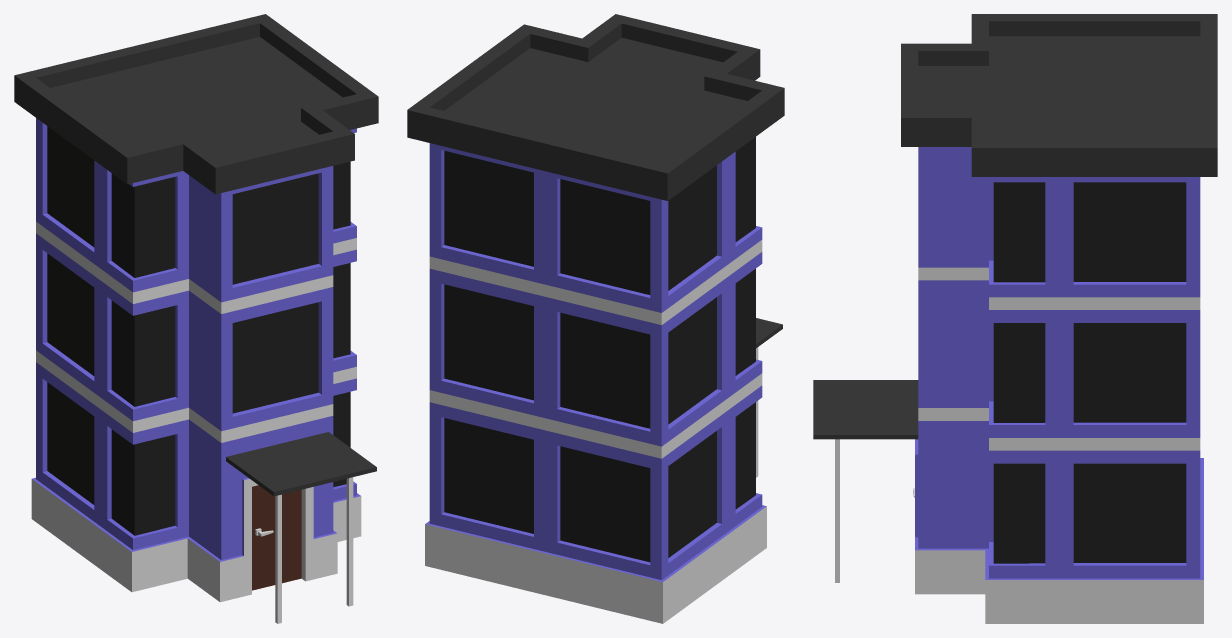
File: house_1.fbx
3 views of the same model, side by side, from view 1: azimuth 30°, elevation 25°; view 2: azimuth 150°, elevation 25°; view 3: azimuth 270°, elevation 25° (orthographic). The views are drawn at different scales.
Visible parts, largest first — view 1: house_1_top, house_1_bottom, house_1_middle; view 2: house_1_top, house_1_bottom, house_1_middle; view 3: house_1_top, house_1_bottom, house_1_middle.
Part boxes in pixels (box(x1,y1,x2,y2)): house_1_top: box(14, 14, 378, 313); house_1_bottom: box(31, 362, 376, 623); house_1_middle: box(36, 233, 356, 442); house_1_top: box(407, 14, 784, 324); house_1_bottom: box(425, 318, 782, 623); house_1_middle: box(429, 252, 762, 458); house_1_top: box(901, 14, 1217, 309); house_1_bottom: box(813, 380, 1203, 623); house_1_middle: box(918, 280, 1200, 450).
Bounding box in the file's own units: 449 × 754 × 574.
